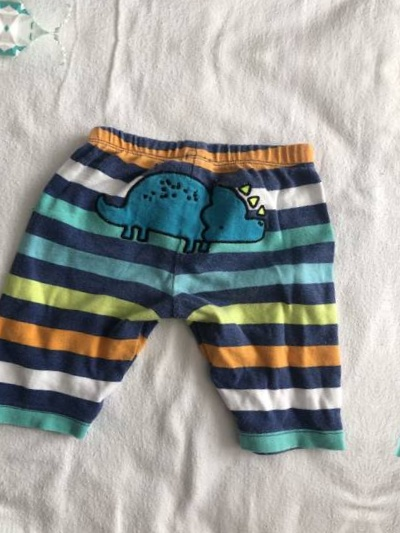Pants: (0, 109, 379, 463), (394, 155, 400, 509)
